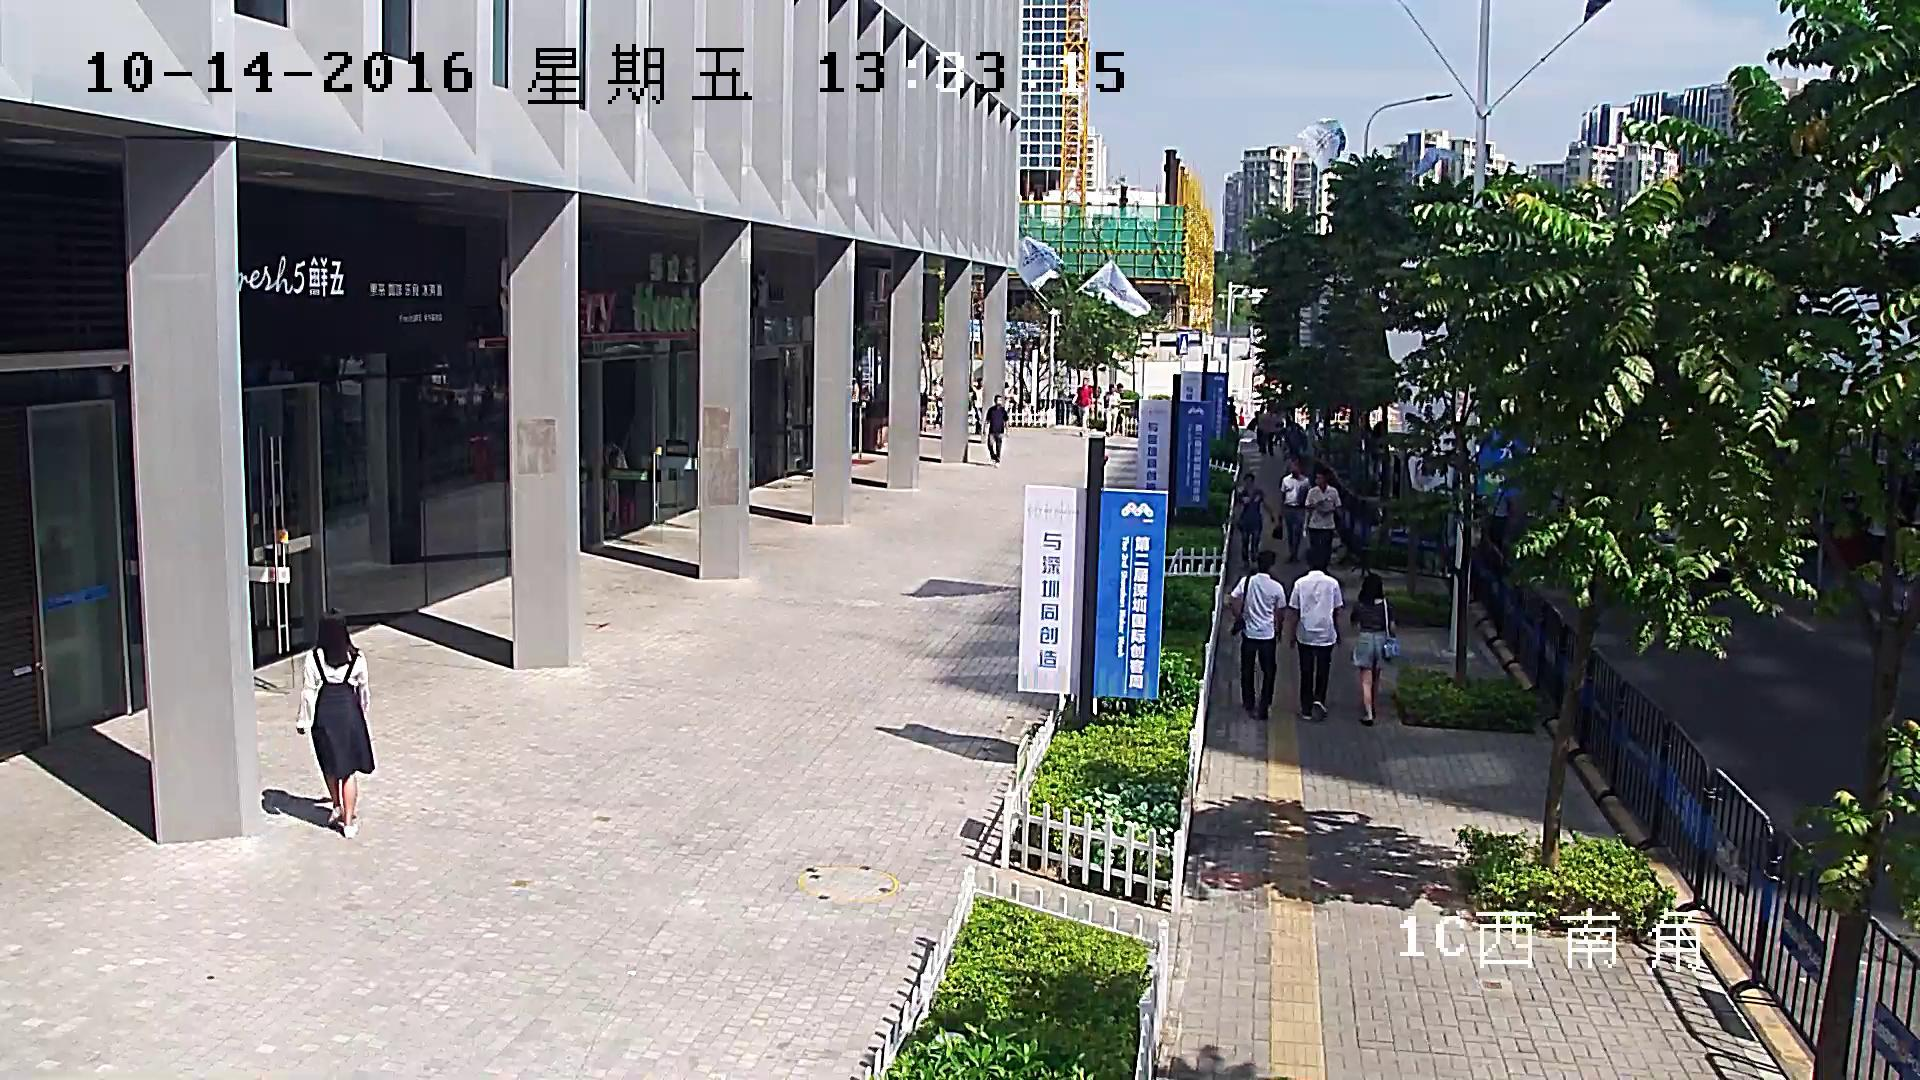person: (296, 608, 375, 837), (1289, 545, 1343, 719), (1230, 550, 1286, 719), (1350, 574, 1399, 723), (1273, 459, 1311, 562), (1305, 470, 1342, 564), (1278, 459, 1311, 562), (1237, 472, 1264, 568), (604, 433, 629, 536), (1487, 472, 1518, 553), (986, 394, 1009, 466), (1072, 376, 1093, 436), (1247, 404, 1267, 452), (1103, 384, 1120, 436), (1260, 405, 1276, 456), (1371, 420, 1385, 479)
